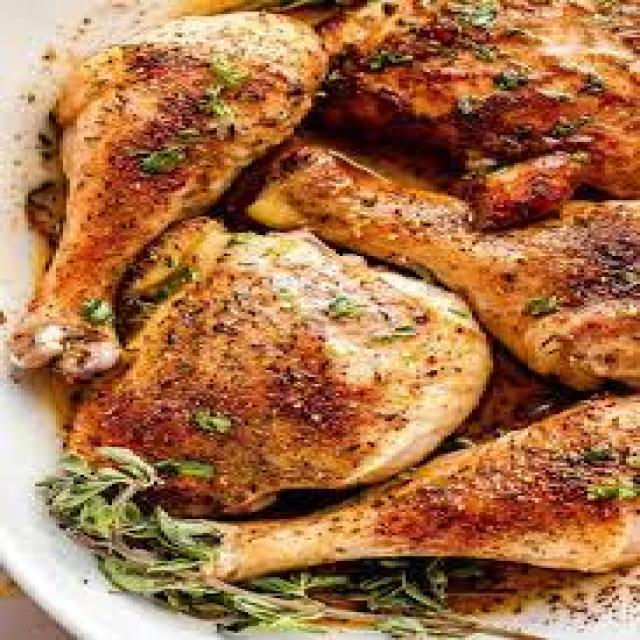Frango: (28, 16, 640, 605)
